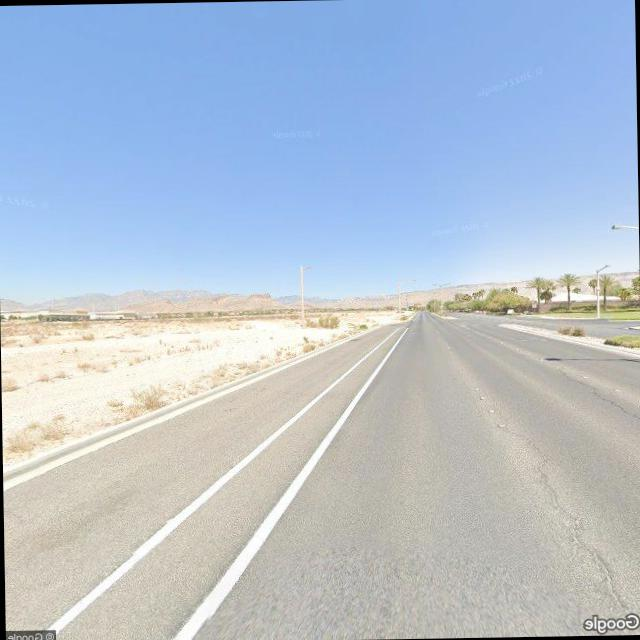pothole: (509, 411, 628, 608)
